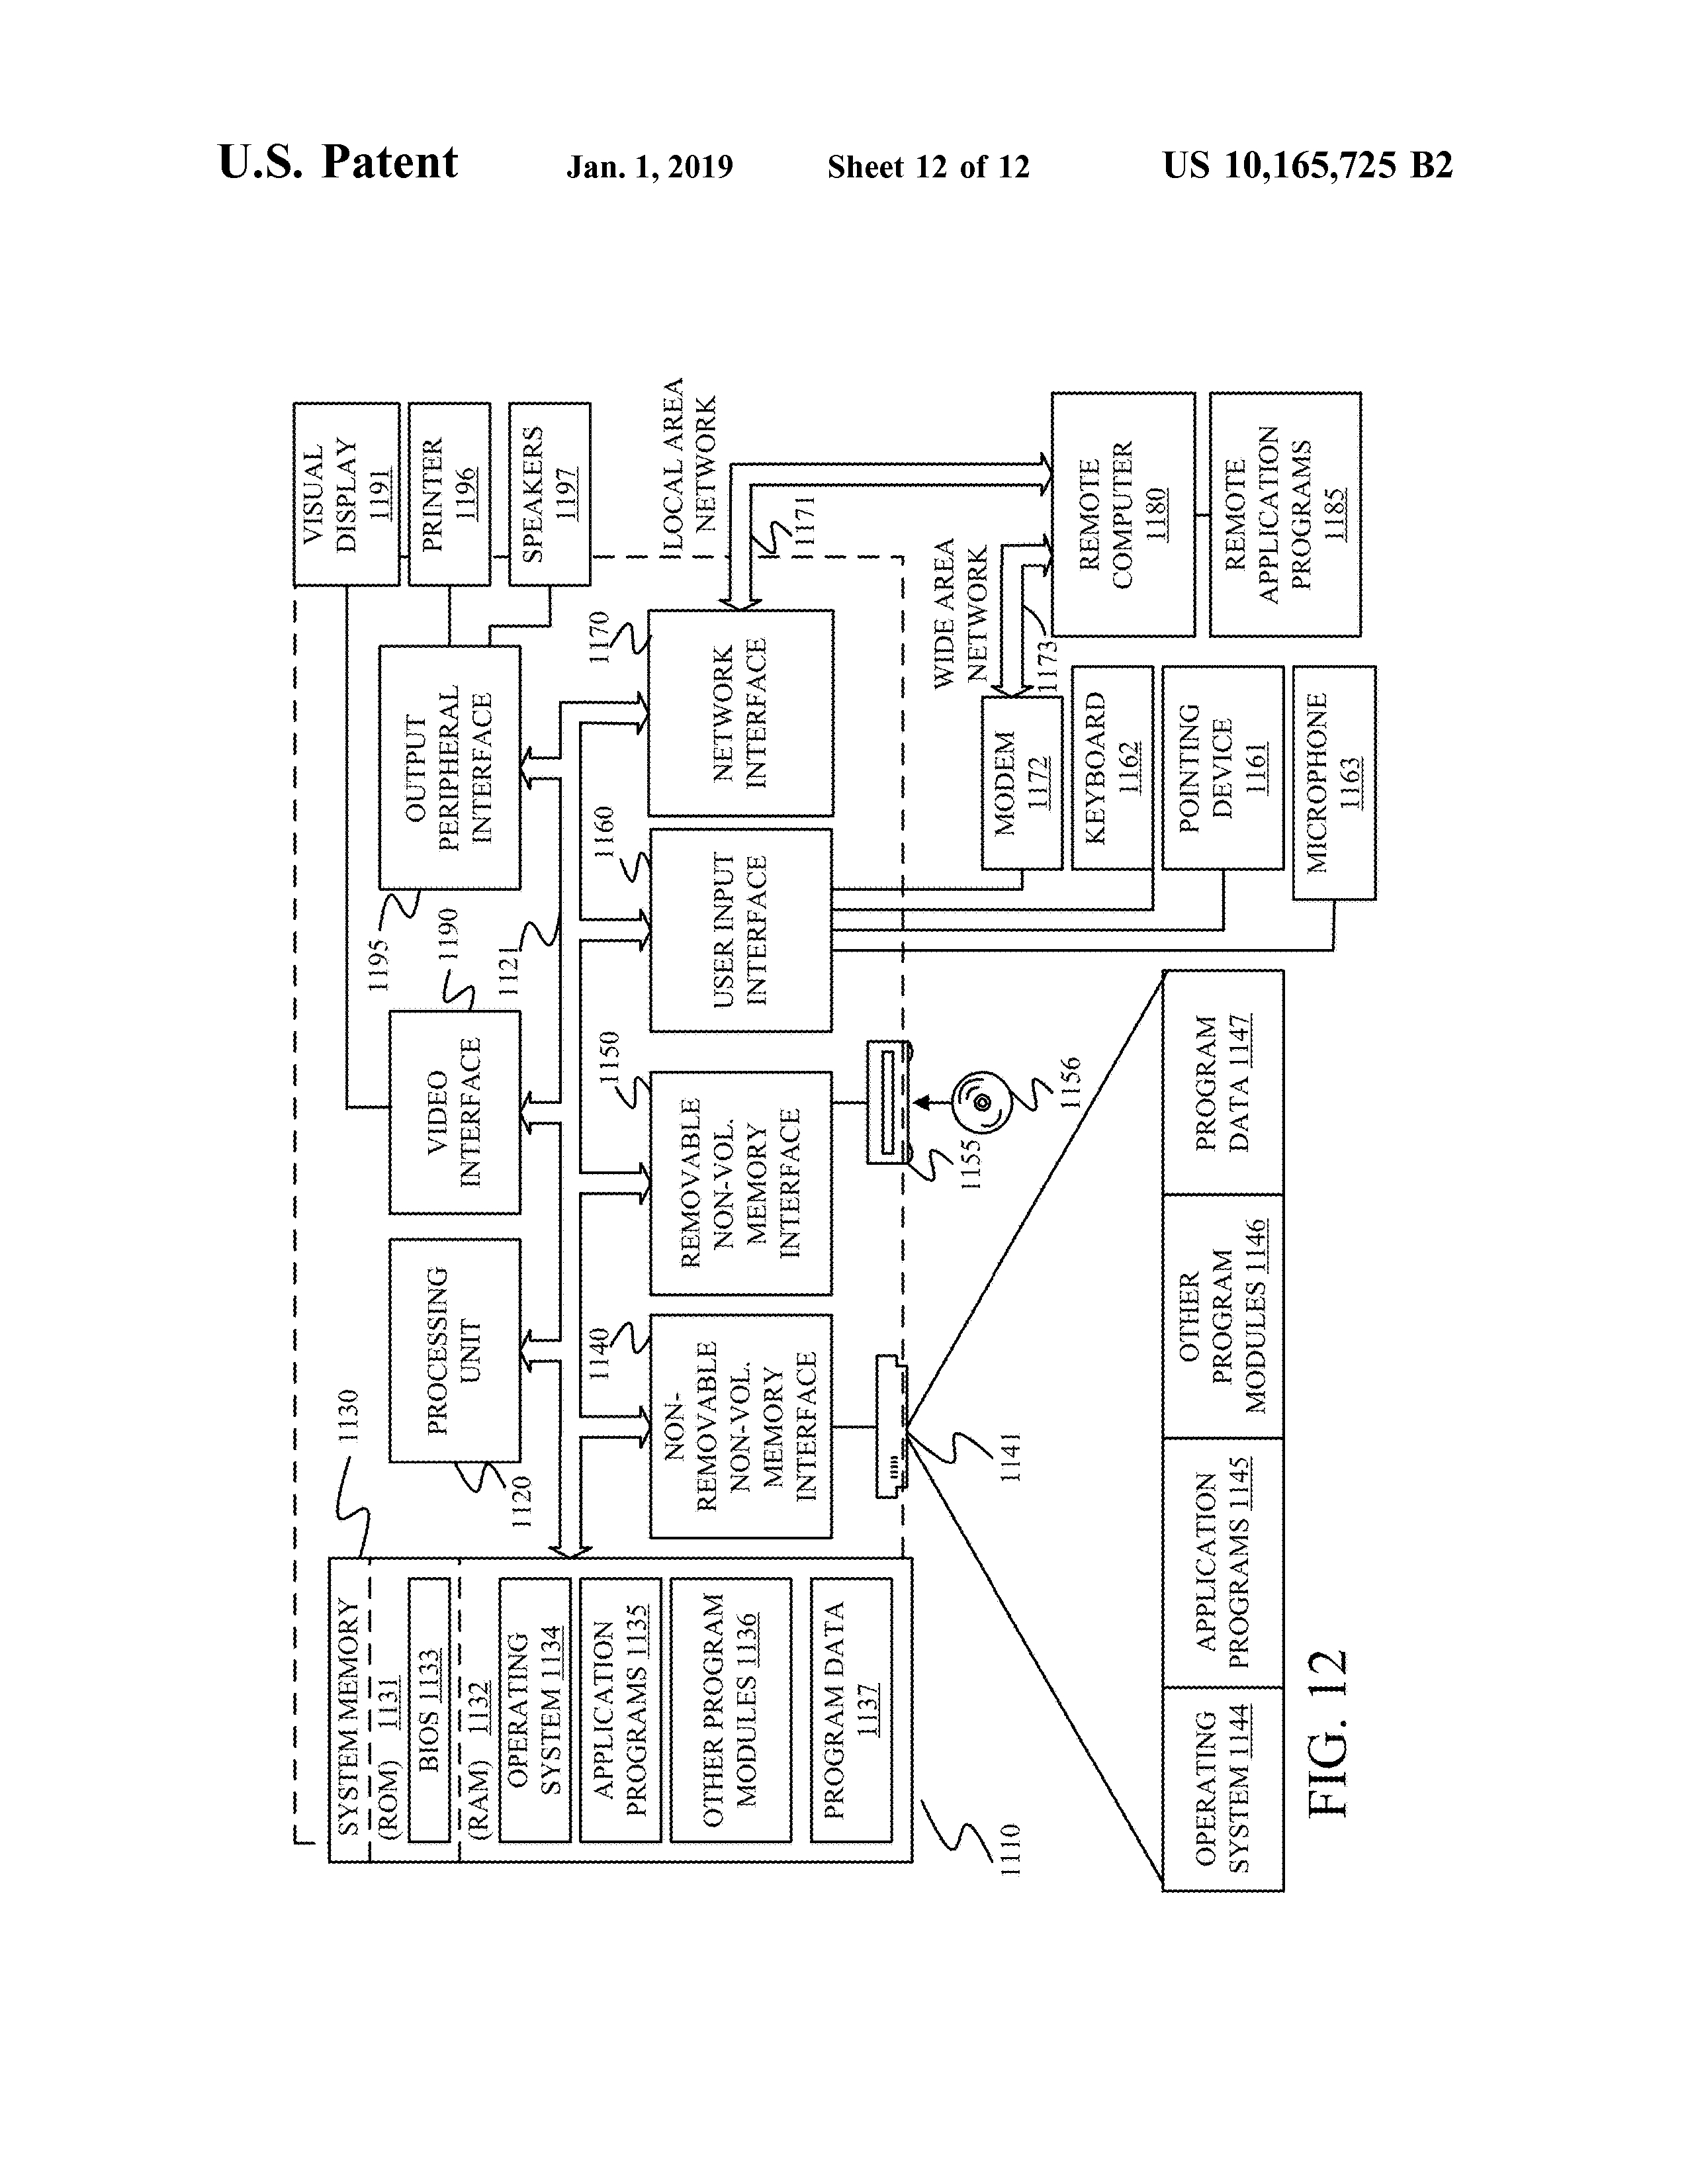patent image: (258, 348, 1395, 1905)
